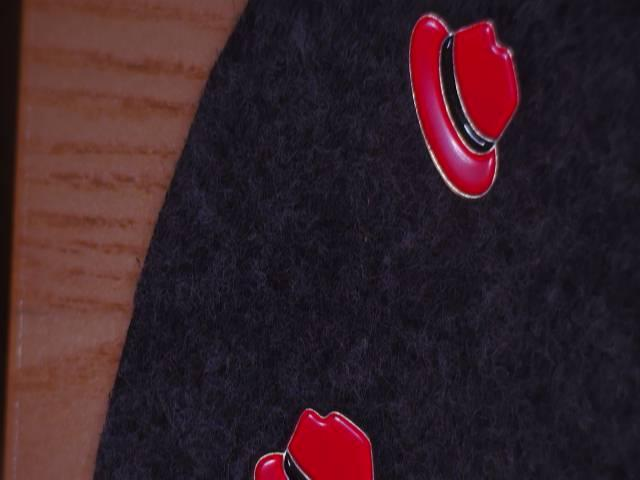Red-Hat: (404, 0, 523, 243), (229, 392, 397, 480)
